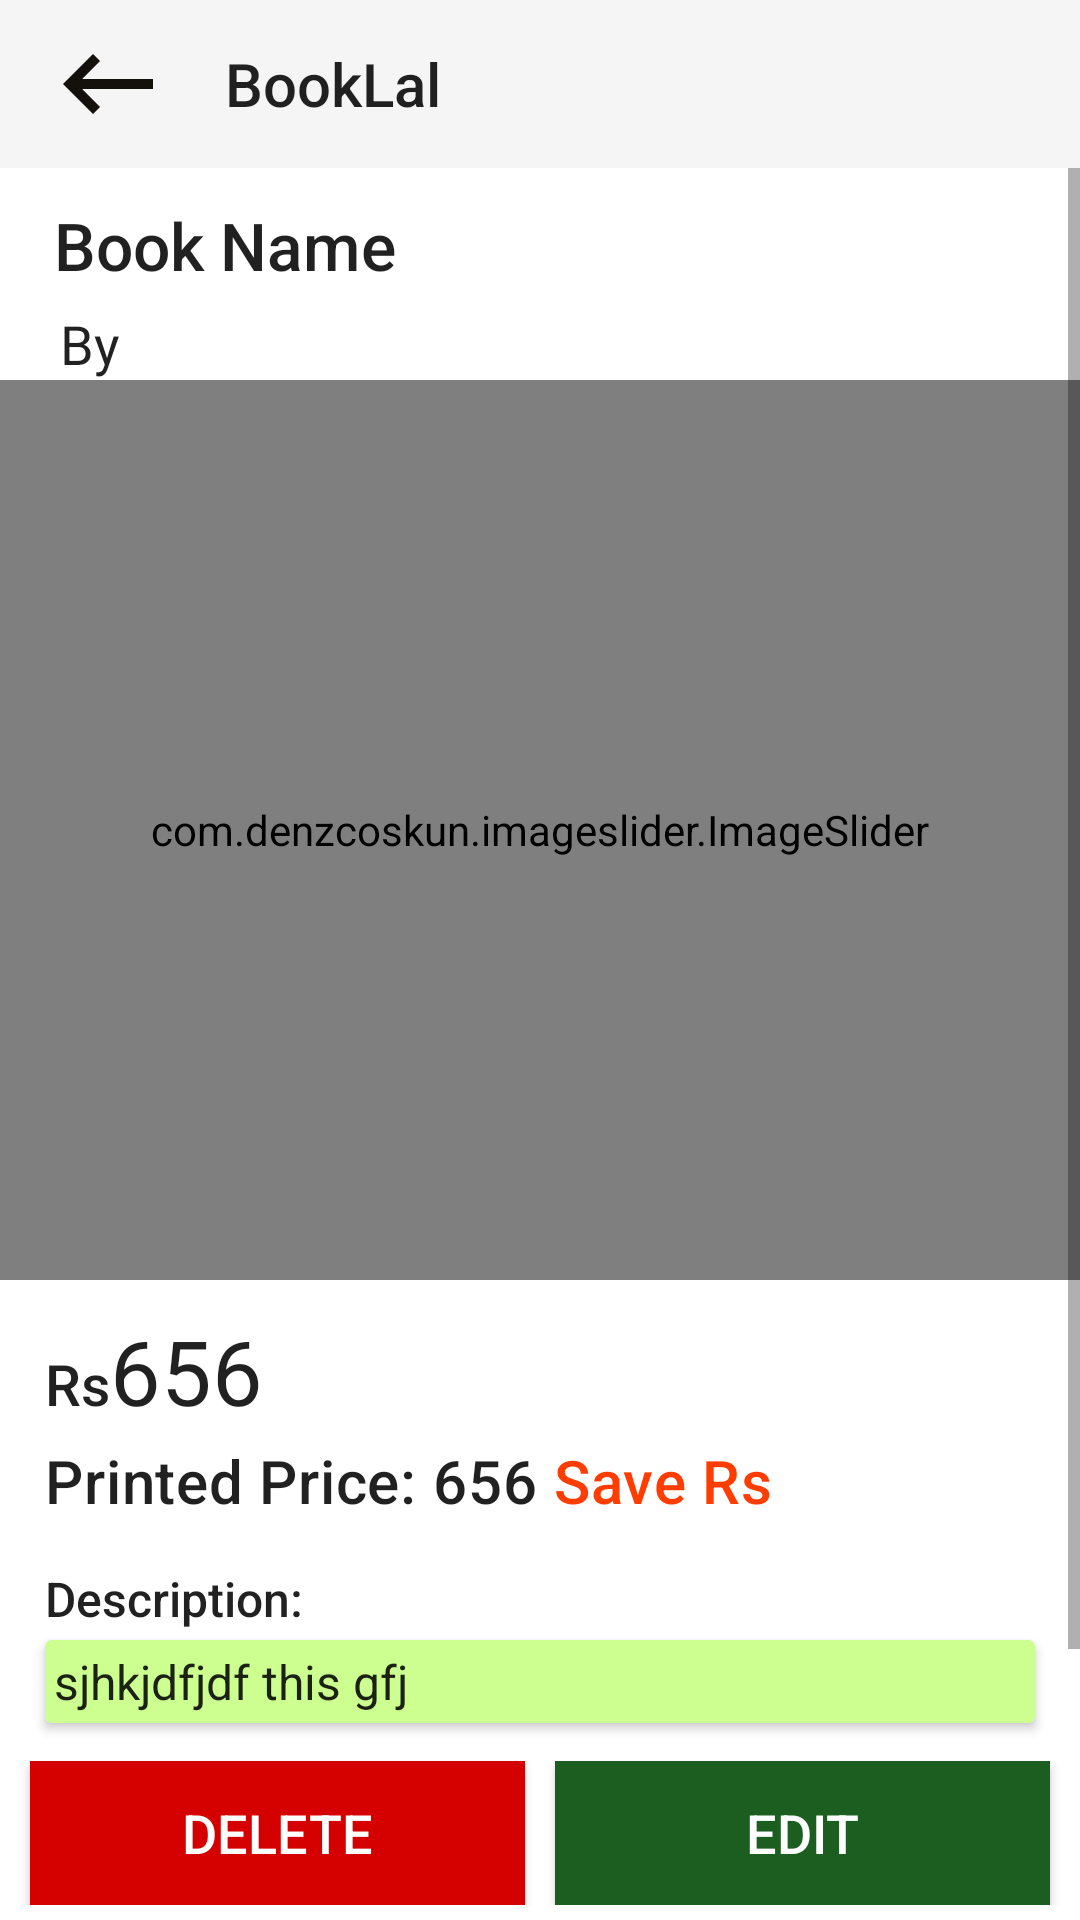

Screen size 1080×1920. Icon name, then its box in pixels as (x1, y1, x2, y2):
long back arrow: (63, 54, 153, 114)
